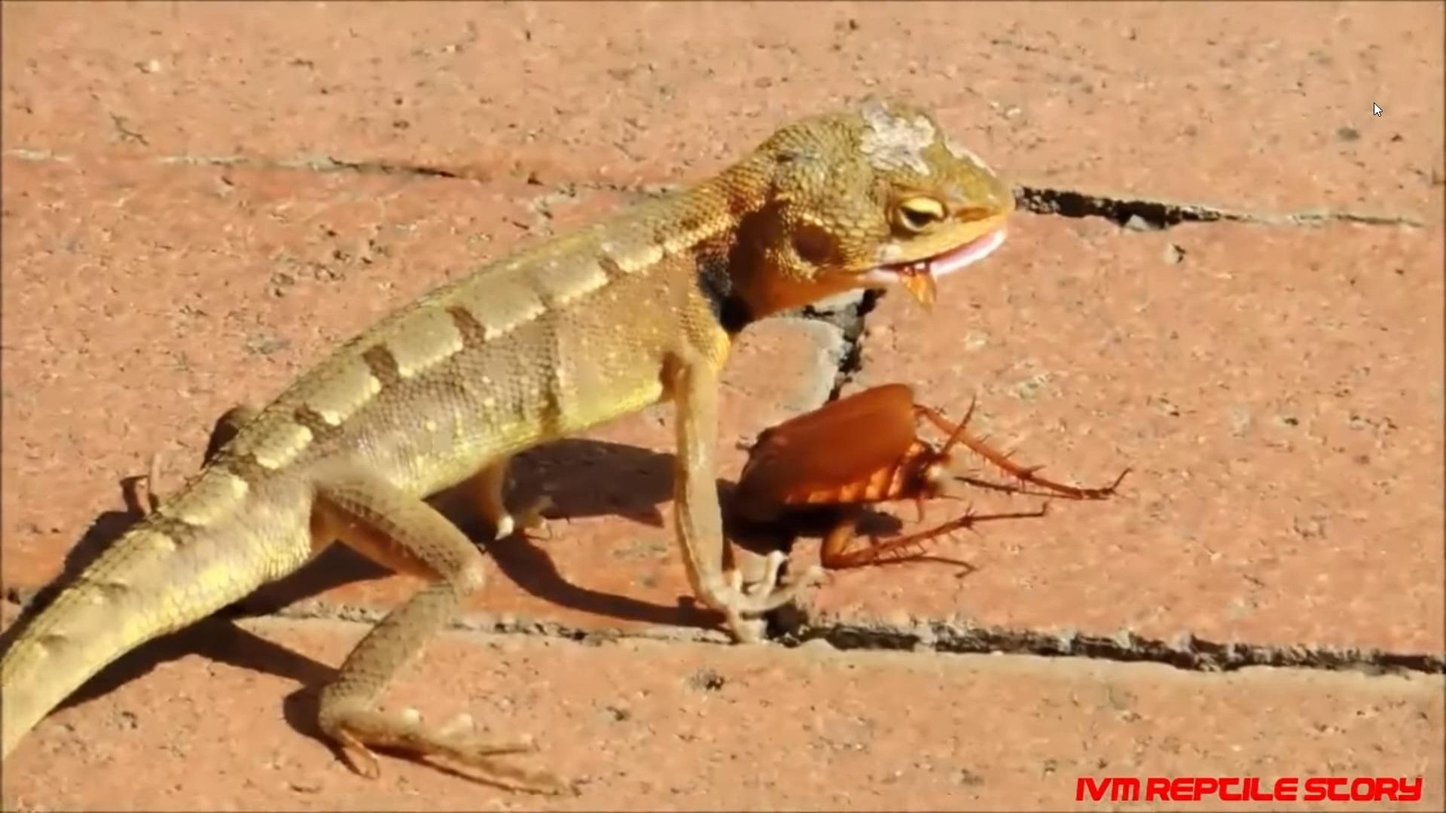cockroach: (728, 384, 1005, 581)
lizard: (117, 90, 1016, 689)
